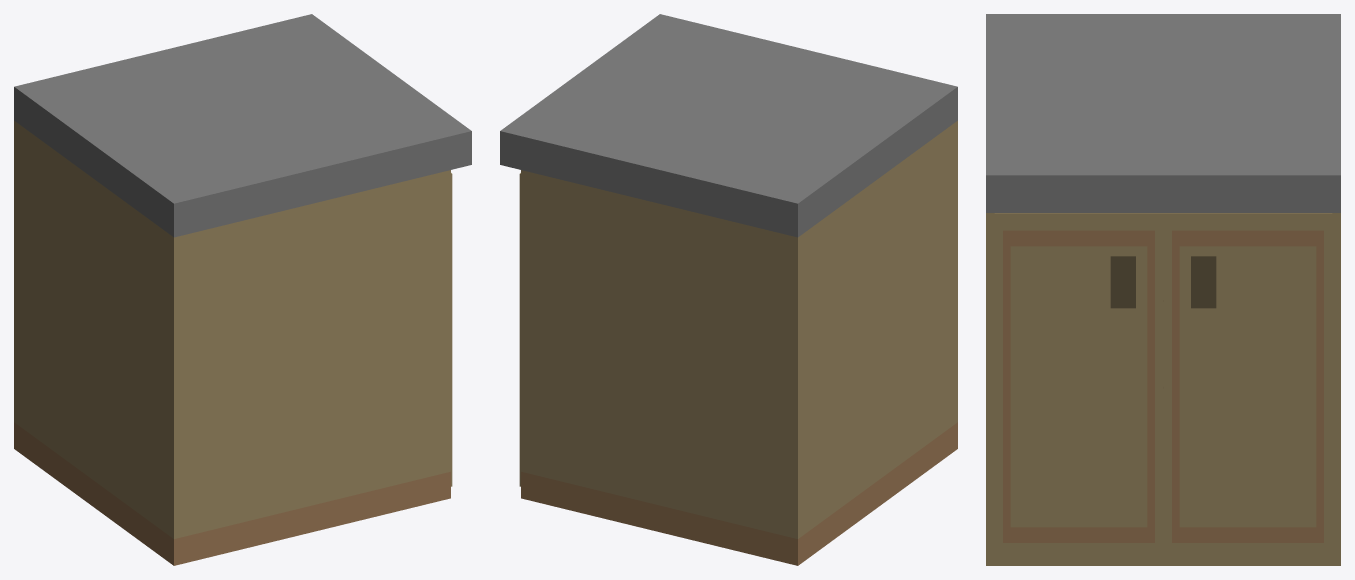
The model's file is groundCabinet.fbx.
3 views of the same model, side by side, from view 1: azimuth 30°, elevation 25°; view 2: azimuth 150°, elevation 25°; view 3: azimuth 270°, elevation 25° (orthographic). The views are drawn at different scales.
Parts seen in each view (by area): view 1: groundCabinet, Door_right; view 2: groundCabinet, Door_left; view 3: groundCabinet, Door_left, Door_right.
Part boxes in pixels (x1,y1,x2,y2): groundCabinet: [14, 14, 471, 565]; Door_right: [451, 173, 452, 486]; groundCabinet: [500, 14, 957, 565]; Door_left: [519, 173, 520, 486]; groundCabinet: [986, 14, 1340, 565]; Door_left: [1163, 213, 1332, 560]; Door_right: [994, 213, 1163, 560].
Size of the model in its own units: 215 by 250 by 200.
